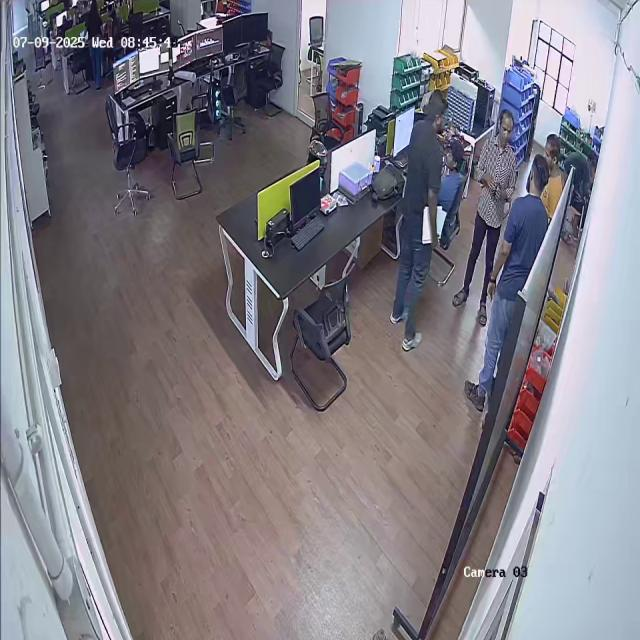person: (489, 152, 560, 406), (390, 88, 447, 353), (470, 107, 513, 313)
